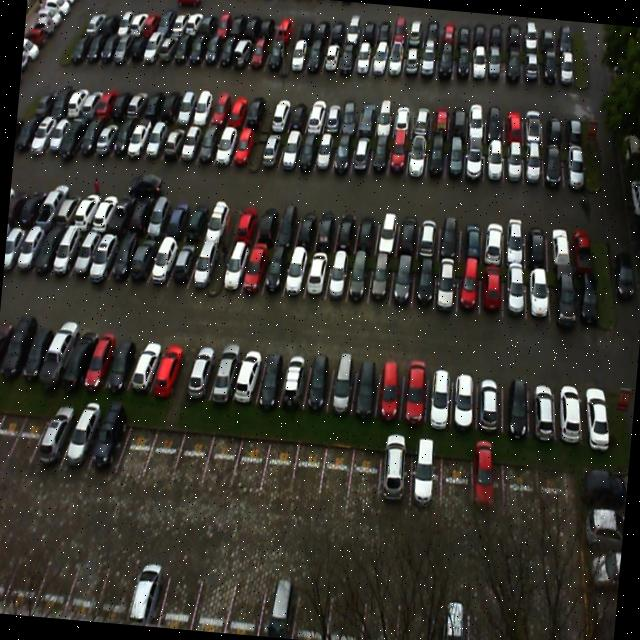empty: (115, 414, 156, 482), (141, 418, 183, 482), (230, 434, 270, 494), (171, 423, 212, 481), (260, 434, 300, 493), (317, 442, 354, 505), (202, 428, 242, 486), (5, 409, 46, 464), (292, 438, 326, 500)
occupied: (83, 414, 129, 480), (29, 409, 72, 472), (58, 413, 100, 476), (574, 376, 614, 439), (524, 374, 560, 440), (230, 347, 268, 408), (551, 376, 585, 440), (58, 328, 94, 388), (501, 372, 534, 436), (78, 334, 115, 391), (124, 230, 160, 288), (103, 336, 139, 394), (237, 241, 271, 301), (474, 373, 508, 432), (324, 357, 356, 419), (146, 228, 178, 288), (450, 371, 482, 431), (254, 350, 287, 408), (277, 354, 310, 412), (126, 337, 160, 393), (164, 236, 197, 293), (280, 242, 311, 302), (148, 344, 182, 398), (375, 361, 405, 422), (425, 368, 455, 428), (208, 344, 240, 400), (569, 268, 602, 322), (400, 362, 430, 420), (257, 245, 288, 301), (349, 360, 380, 416), (186, 237, 216, 294), (301, 356, 331, 413), (108, 228, 138, 284), (184, 346, 216, 397), (523, 217, 553, 270), (522, 267, 552, 320), (219, 240, 245, 300), (479, 212, 508, 265), (324, 252, 352, 306), (124, 193, 158, 237), (143, 193, 175, 238), (476, 267, 506, 315), (501, 267, 528, 320), (302, 250, 328, 304), (344, 256, 372, 306), (569, 224, 598, 272), (162, 196, 192, 242), (460, 213, 486, 266), (546, 273, 574, 322), (389, 258, 415, 310), (456, 264, 482, 316), (212, 121, 240, 169), (560, 142, 589, 188), (183, 199, 214, 242), (206, 201, 235, 246), (439, 208, 464, 260), (502, 216, 528, 266), (548, 220, 574, 270), (434, 260, 459, 312), (177, 118, 204, 166), (195, 120, 222, 168), (414, 212, 442, 258), (159, 118, 188, 162), (374, 208, 399, 258), (412, 260, 436, 312), (250, 204, 278, 248), (258, 125, 284, 171), (312, 206, 339, 250), (232, 204, 260, 246), (230, 125, 256, 170), (274, 203, 300, 246), (334, 208, 359, 252), (370, 256, 392, 306), (352, 210, 377, 253), (292, 207, 318, 248), (278, 129, 302, 172), (406, 136, 430, 179), (395, 214, 419, 257), (297, 130, 319, 176), (314, 130, 336, 176), (525, 142, 548, 186), (332, 134, 354, 178), (504, 144, 528, 184), (542, 146, 566, 185), (368, 136, 390, 178), (427, 138, 448, 180), (444, 140, 466, 179), (464, 142, 486, 181), (350, 136, 371, 175), (484, 143, 506, 180), (388, 136, 408, 174)
